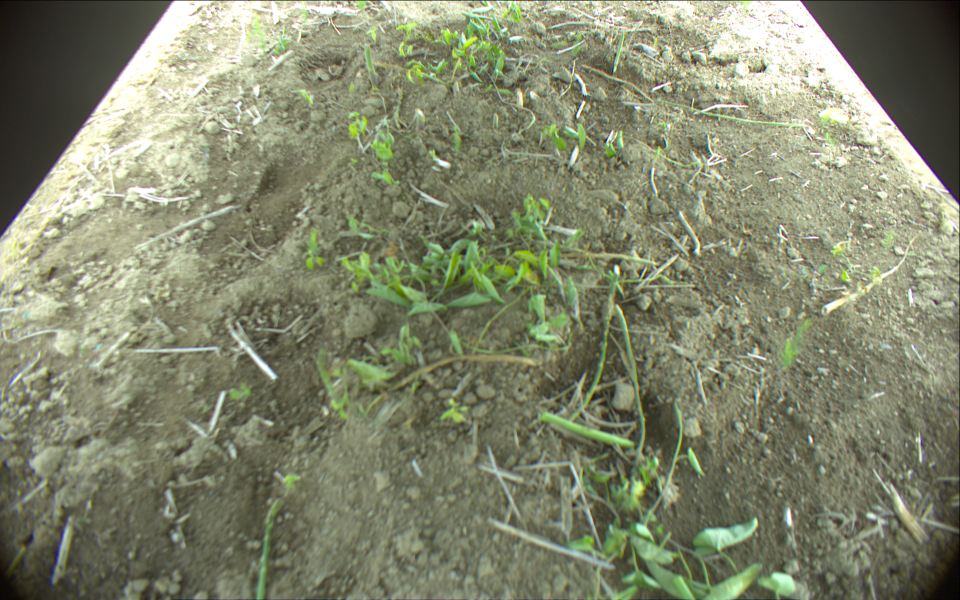aspa: (571, 265, 620, 423), (617, 306, 646, 471), (659, 98, 811, 129), (363, 43, 378, 84), (614, 32, 626, 69)
